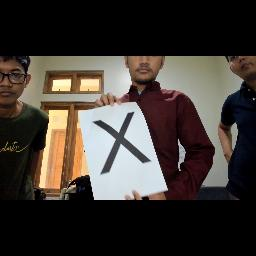x: (88, 109, 158, 179)
